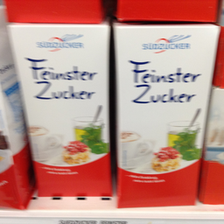sugar: (113, 24, 221, 210), (7, 22, 112, 198)
